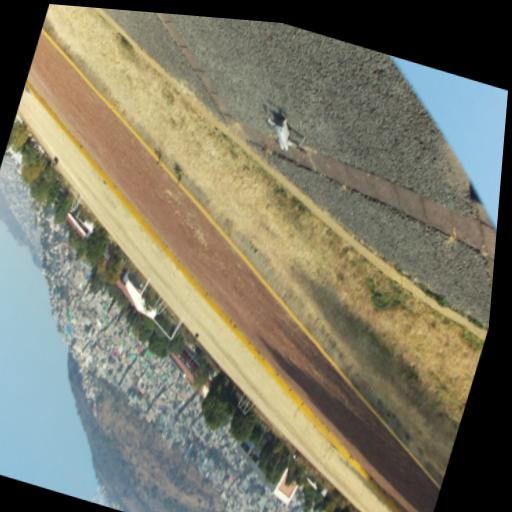drones: (252, 107, 319, 164)
